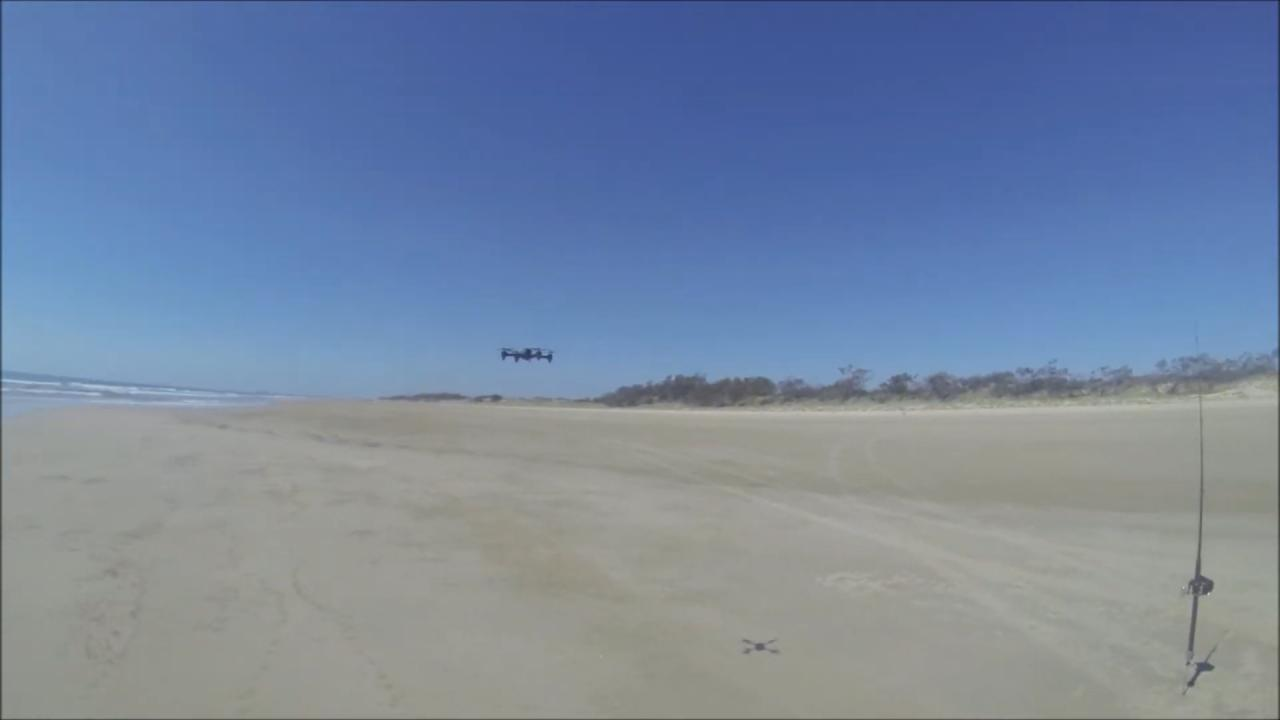Drone: (487, 340, 565, 369)
